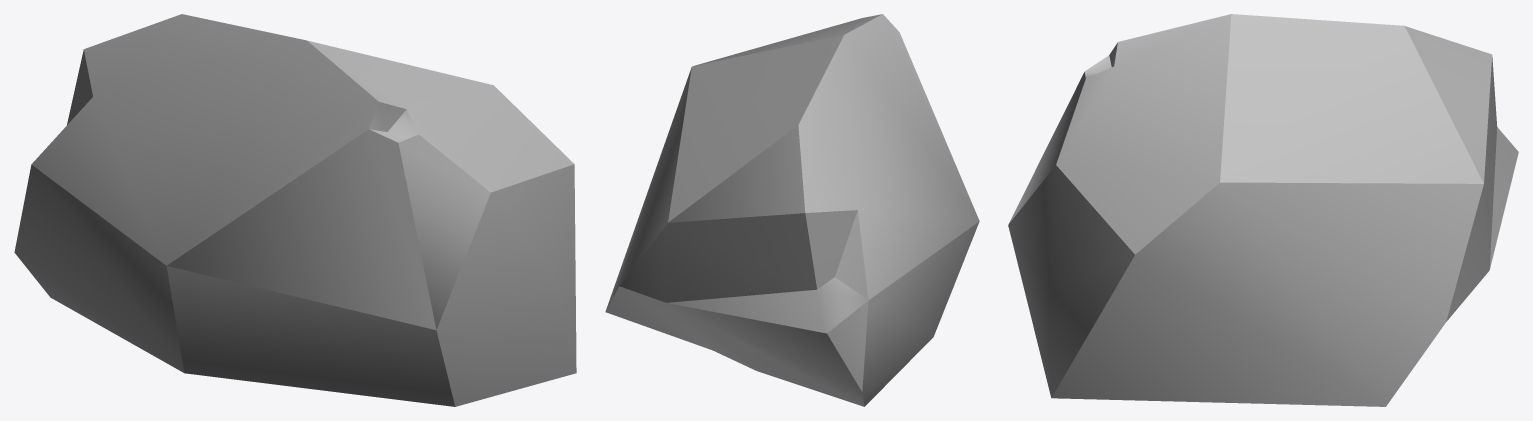
File: SK_Rock_004.FBX
3 views of the same model, side by side, from view 1: azimuth 30°, elevation 25°; view 2: azimuth 150°, elevation 25°; view 3: azimuth 270°, elevation 25° (orthographic). The views are drawn at different scales.
Parts seen in each view (by area): view 1: SK_Rock_004; view 2: SK_Rock_004; view 3: SK_Rock_004.
Part boxes in pixels (x1=…): SK_Rock_004: x1=14, y1=14, x2=576, y2=406; SK_Rock_004: x1=605, y1=14, x2=979, y2=406; SK_Rock_004: x1=1008, y1=14, x2=1518, y2=406.
Size of the model in its own units: 30.46 by 24.27 by 36.91.
Materials: 1 (1 with a texture image).
